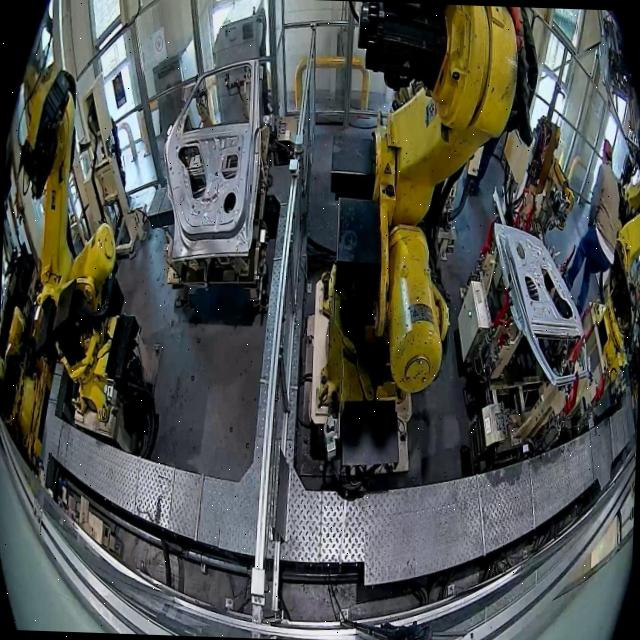Person: (466, 5, 540, 198), (554, 136, 622, 320), (619, 144, 640, 218)
